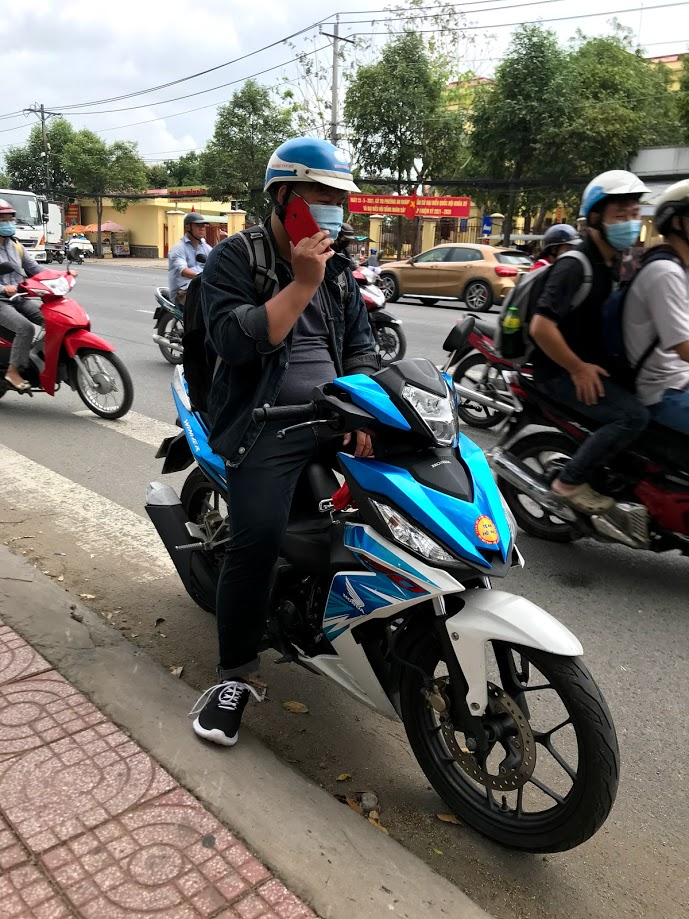su dung dien thoai: (261, 136, 357, 282)
